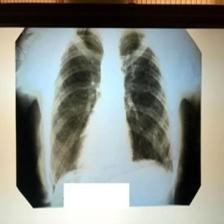tuberculosis: (38, 28, 182, 207)
